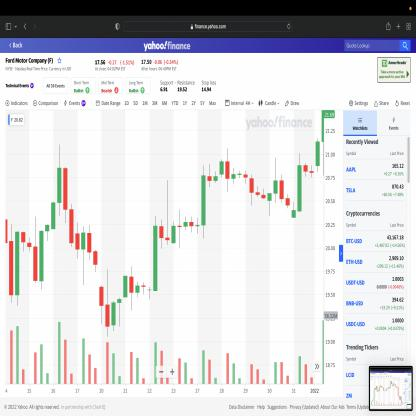Bearish: 3 Black Crows: (62, 165, 80, 261)
Bullish: 3 White Soldiers: (39, 198, 56, 292)
Bullish: Inverted Hammer: (158, 175, 176, 250)
Bullish: Tweezer Bottom: (8, 220, 20, 307), (32, 213, 44, 292)
